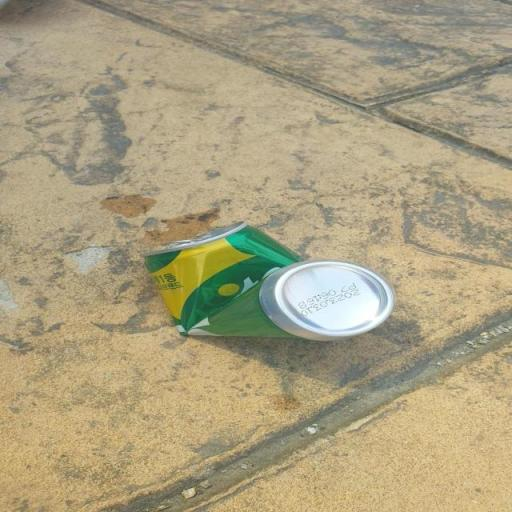metal: (138, 236, 478, 409)
